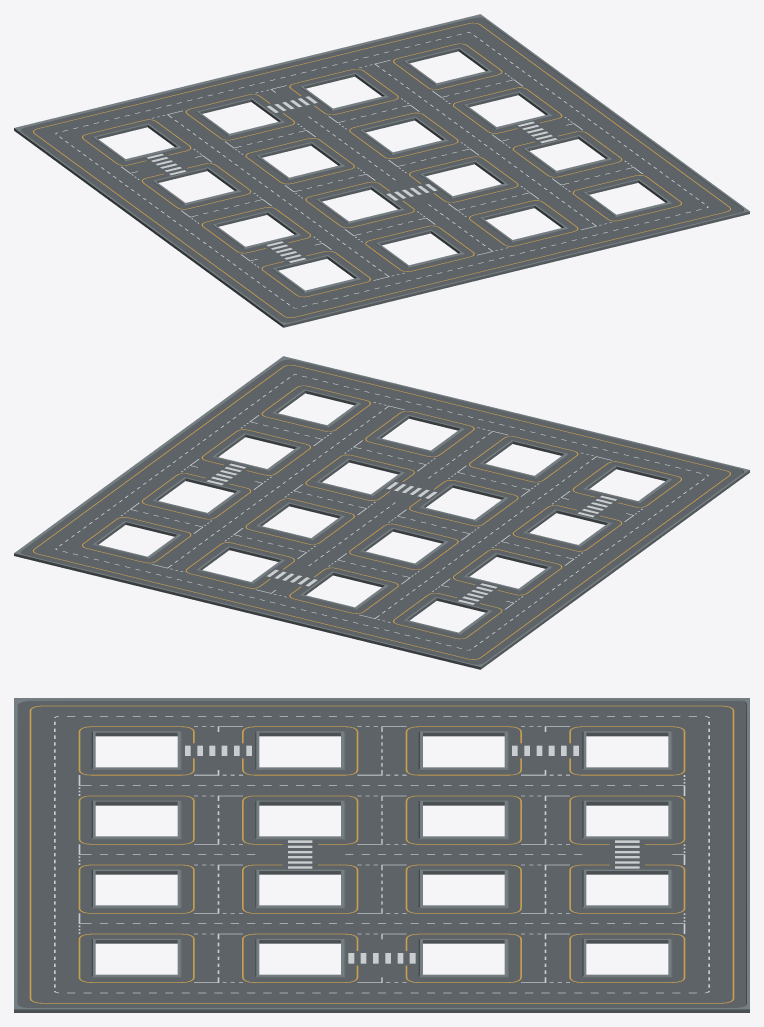
Rendered from map_road.glb.
3 renders of one model, top to bottom at view 1: azimuth 30°, elevation 25°; view 2: azimuth 150°, elevation 25°; view 3: azimuth 270°, elevation 25°, orthographic. The views are drawn at different scales.
Parts seen in each view (by area): view 1: road_corner.002, road_straight.010, road_straight.015, road_straight.008, road_straight.009, road_straight.020, road_straight.034, road_straight.002, road_straight.032, road_straight.011, road_straight.014, road_straight.022 (+53 smaller); view 2: road_corner, road_straight.016, road_straight.009, road_straight.006, road_straight.014, road_straight.015, road_straight.020, road_straight.001, road_straight.033, road_straight.002, road_straight.008, road_straight.017 (+53 smaller); view 3: road_straight.003, road_straight.004, road_straight.005, road_straight.028, road_straight_crossing.003, road_straight.029, road_straight.013, road_straight.019, road_straight.030, road_straight.031, road_straight, road_straight_crossing (+53 smaller).
Part boxes in pixels (left/top/right/bottom): road_corner.002: left=253, top=290, right=335, bottom=327; road_straight.010: left=513, top=227, right=594, bottom=264; road_straight.015: left=170, top=77, right=251, bottom=113; road_straight.008: left=305, top=278, right=386, bottom=314; road_straight.009: left=409, top=252, right=490, bottom=289; road_straight.020: left=186, top=190, right=267, bottom=226; road_straight.034: left=229, top=121, right=311, bottom=157; road_straight.002: left=453, top=183, right=534, bottom=219; road_straight.032: left=437, top=70, right=518, bottom=106; road_straight.011: left=617, top=202, right=697, bottom=239; road_straight.014: left=66, top=102, right=147, bottom=139; road_straight.022: left=393, top=139, right=474, bottom=176; road_corner: left=428, top=632, right=510, bottom=669; road_straight.016: left=169, top=569, right=250, bottom=606; road_straight.009: left=512, top=419, right=593, bottom=455; road_straight.006: left=452, top=463, right=534, bottom=499; road_straight.014: left=377, top=620, right=458, bottom=656; road_straight.015: left=273, top=594, right=354, bottom=631; road_straight.020: left=496, top=532, right=577, bottom=568; road_straight.001: left=245, top=412, right=326, bottom=448; road_straight.033: left=229, top=525, right=310, bottom=561; road_straight.002: left=349, top=438, right=430, bottom=474; road_straight.008: left=616, top=444, right=697, bottom=481; road_straight.017: left=66, top=544, right=146, bottom=581; road_straight.003: left=95, top=836, right=177, bottom=874; road_straight.004: left=95, top=767, right=177, bottom=805; road_straight.005: left=95, top=905, right=177, bottom=943; road_straight.028: left=586, top=767, right=668, bottom=805; road_straight_crossing.003: left=586, top=836, right=668, bottom=874; road_straight.029: left=586, top=905, right=668, bottom=943; road_straight.013: left=95, top=974, right=177, bottom=1012; road_straight.019: left=95, top=698, right=177, bottom=736; road_straight.030: left=586, top=974, right=668, bottom=1012; road_straight.031: left=586, top=698, right=668, bottom=736; road_straight: left=259, top=767, right=340, bottom=805; road_straight_crossing: left=259, top=836, right=340, bottom=874.
Bounding box in the file's own units: 18 × 0.1 × 18.
1 material, 1 textured.
